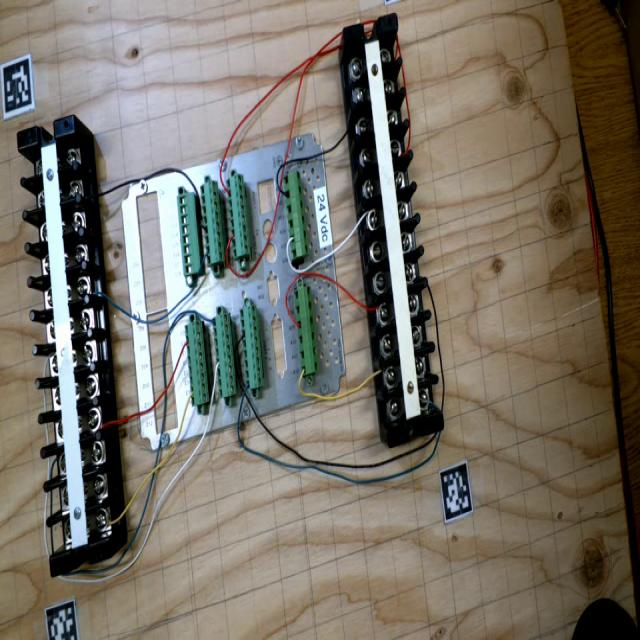Flathead_Block: (343, 13, 445, 448)
Phillips_Block: (16, 116, 111, 577)
Terminal_1: (283, 170, 309, 260), (294, 286, 319, 375)
Terminal_2: (239, 305, 264, 391), (200, 180, 225, 266), (226, 173, 251, 259), (212, 313, 237, 398), (185, 321, 209, 406)
